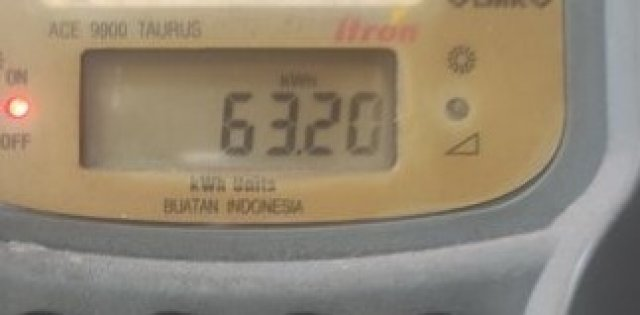box: (85, 51, 393, 166)
